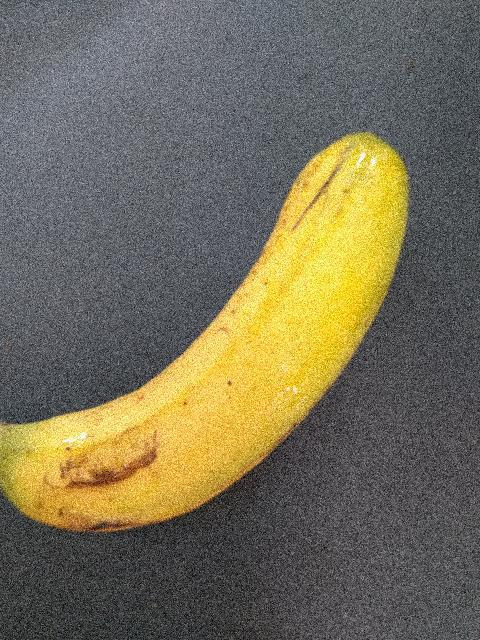ripe: (15, 139, 429, 549)
